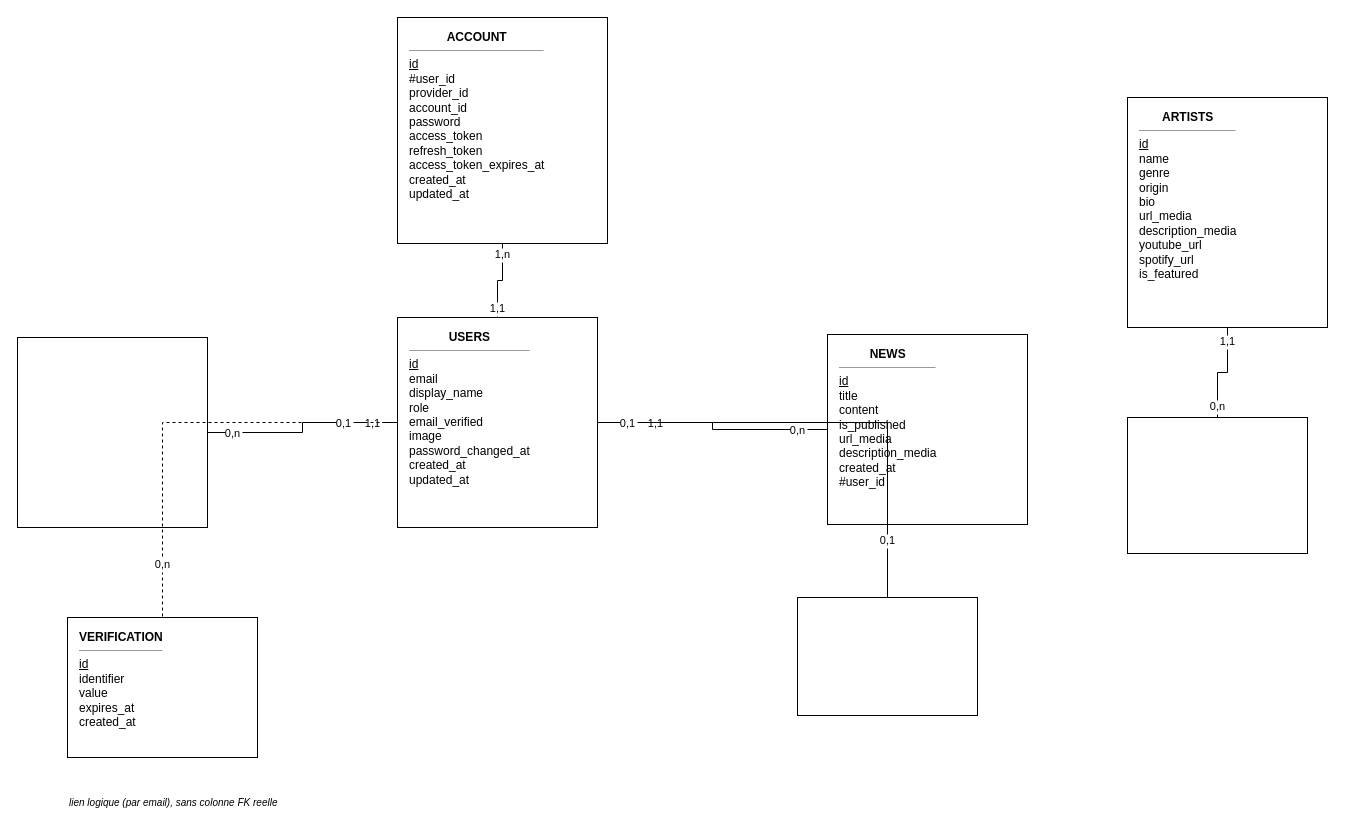
The diagram is 1345 pixels wide and 830 high, and some of its shapes have lost their labels. The centre of each missing label's shape, as x and y in pixels:
CONCERTS id #artist_id stage start_time end_time: point (1217, 485)
SESSION id #user_id token expires_at ip_address user_agent created_at updated_at: point (112, 432)
TWO_FACTOR id #user_id secret backup_codes: point (887, 656)
